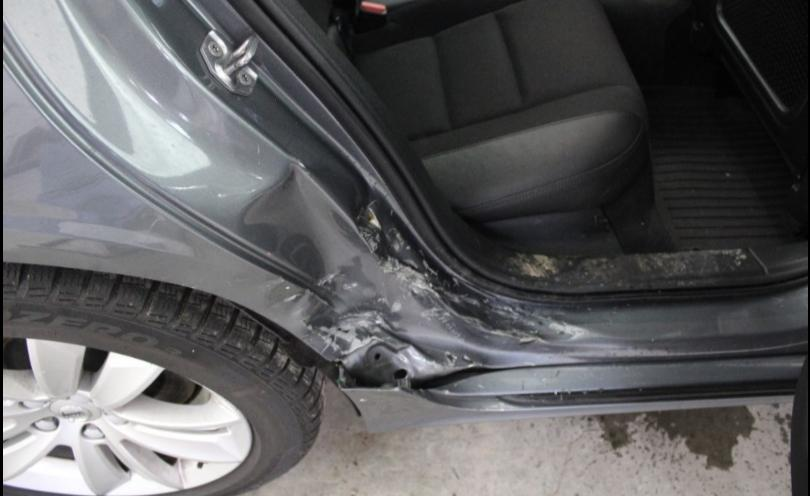Back-wheel: (0, 260, 327, 495)
Quarter-panel: (0, 25, 344, 325)
Rocker-panel: (279, 302, 809, 437)
